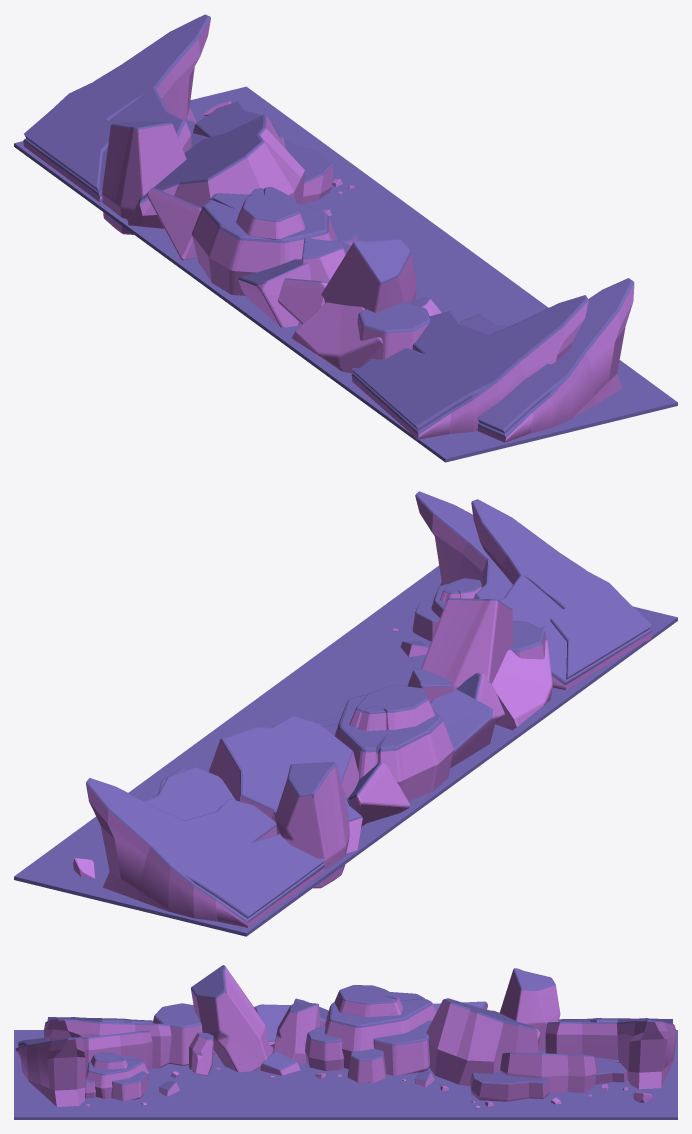
Rendered from Pebble's Road Section 06.fbx.
The picture shows the model from 3 angles, top to bottom: view 1: azimuth 30°, elevation 25°; view 2: azimuth 150°, elevation 25°; view 3: azimuth 270°, elevation 25°; orthographic projection. The views are drawn at different scales.
Parts seen in each view (by area): view 1: Ground, Rock_02_4, Rock_02_2, Rock_02_3, Rock_10___1_1, Rock_07_, Rock_13_2, Rock_13_4, Rock_12__1, Rock_09___1_1, Rock_12_4, Rock_12_2 (+4 smaller); view 2: Ground, Rock_02_2, Rock_02_4, Rock_10___1_1, Rock_07_, Rock_13_2, Rock_13_4, Rock_02_3, Rock_12__1, Rock_12_4, Rock_04_2, Rock_12_2 (+4 smaller); view 3: Ground, Rock_10___1_1, Rock_07_, Rock_02_2, Rock_02_3, Rock_13_4, Rock_04_2, Rock_13_2, Rock_02_4, Rock_10___1_2, Rock_04_3, Rock_13_5 (+6 smaller).
Boxes of the visible parts, x1,y1,x2,y2 form: Ground: (14,86,677,462); Rock_02_4: (351,295,588,440); Rock_02_2: (23,14,210,201); Rock_02_3: (460,278,634,442); Rock_10___1_1: (191,186,350,295); Rock_07_: (127,114,304,228); Rock_13_2: (102,121,186,234); Rock_13_4: (321,239,416,312); Rock_12__1: (291,302,382,373); Rock_09___1_1: (357,302,430,367); Rock_12_4: (238,259,310,327); Rock_12_2: (147,187,201,260); Ground: (14,565,677,936); Rock_02_2: (86,778,324,927); Rock_02_4: (471,499,652,689); Rock_10___1_1: (323,685,453,801); Rock_07_: (209,715,362,853); Rock_13_2: (274,762,349,888); Rock_13_4: (421,598,512,688); Rock_02_3: (415,491,512,600); Rock_12__1: (492,640,552,730); Rock_12_4: (430,688,496,767); Rock_04_2: (144,766,235,820); Rock_12_2: (348,762,410,825); Ground: (14,1030,677,1119); Rock_10___1_1: (305,985,436,1075); Rock_07_: (426,998,540,1086); Rock_02_2: (545,1018,676,1089); Rock_02_3: (15,1030,152,1106); Rock_13_4: (191,965,273,1072); Rock_04_2: (500,1052,597,1093); Rock_13_2: (499,968,560,1051); Rock_02_4: (43,1017,171,1068); Rock_10___1_2: (85,1052,148,1100); Rock_04_3: (470,1070,550,1101); Rock_13_5: (273,1001,320,1064).
Bounding box in the file's own units: 7052 × 3898 × 22500.
